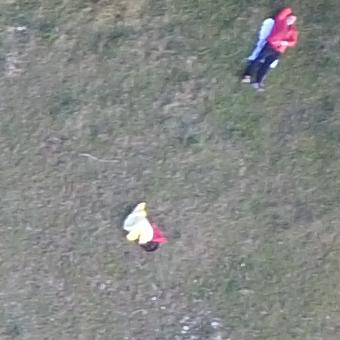human: (240, 8, 302, 90)
